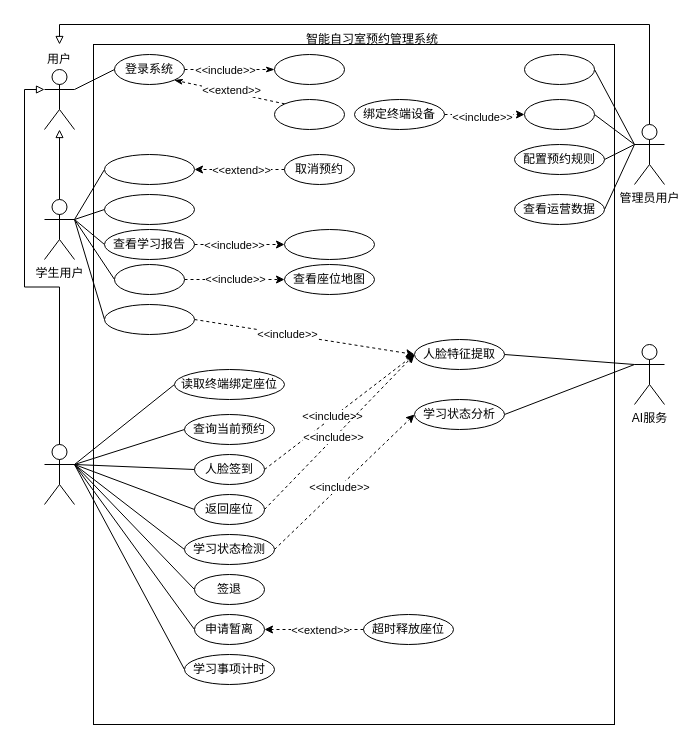
The diagram is 697 pixels wide and 742 high, and some of its shapes have lost their labels. Each missing label, with the centre of its shape:
人脸登录: point 309,114
座位终端: point 59,474
查看预约记录: point 149,169
查询学习数据: point 329,244
管理学习事项: point 149,209
管理座位: point 559,114
管理自习室: point 559,69
维护人脸模板: point 149,319
身份认证: point 309,69
预约座位: point 149,279
